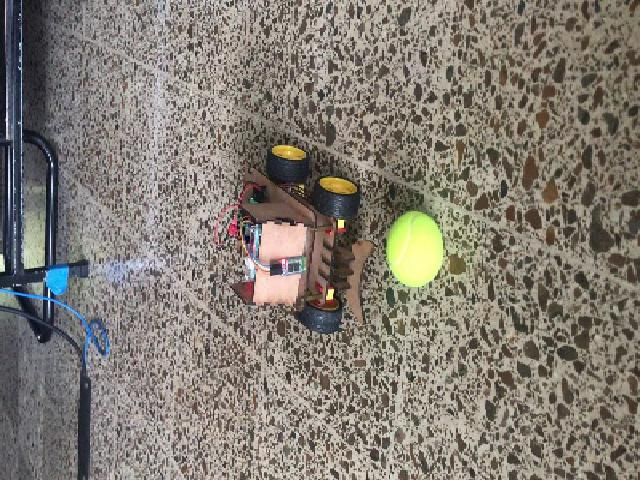Ball: (384, 210, 443, 288)
Robot: (227, 145, 376, 332)
